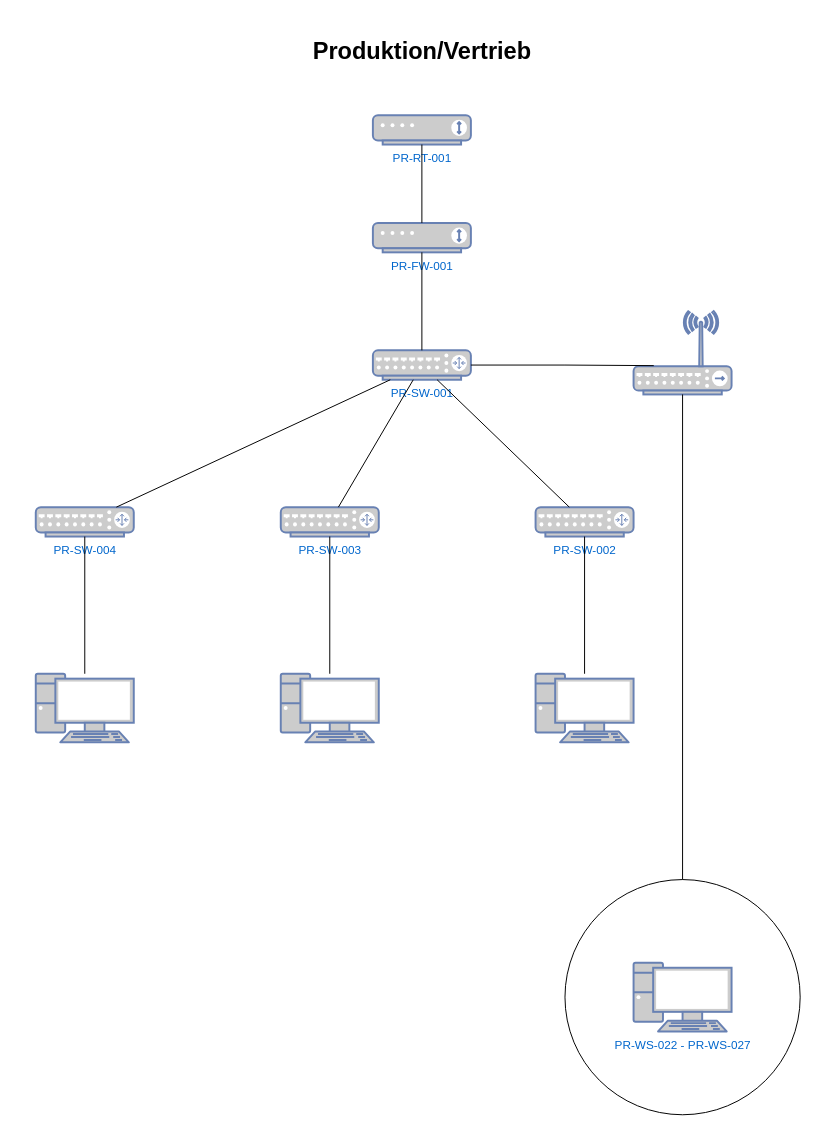
Image size: 817x1132. Some labels were removed from this diagram. Here are the shapes that lost their labels. From the top down, the centre of each, then its label:
At point 682,352: "PR-AP-001".
At point 84,707: "PR-WS-001 - PR-WS-006".
At point 329,707: "PR-WS-007 - PR-WS-014".
At point 584,707: "PR-WS-015 - PR-WS-021".
